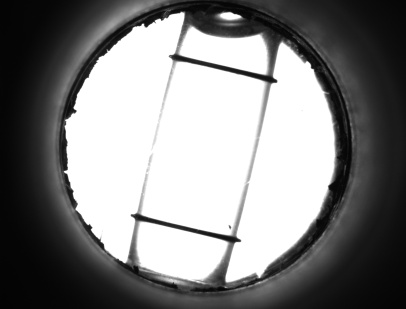line: (145, 213, 222, 243), (183, 54, 260, 82)
